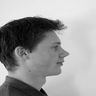ear: (12, 43, 36, 64)
